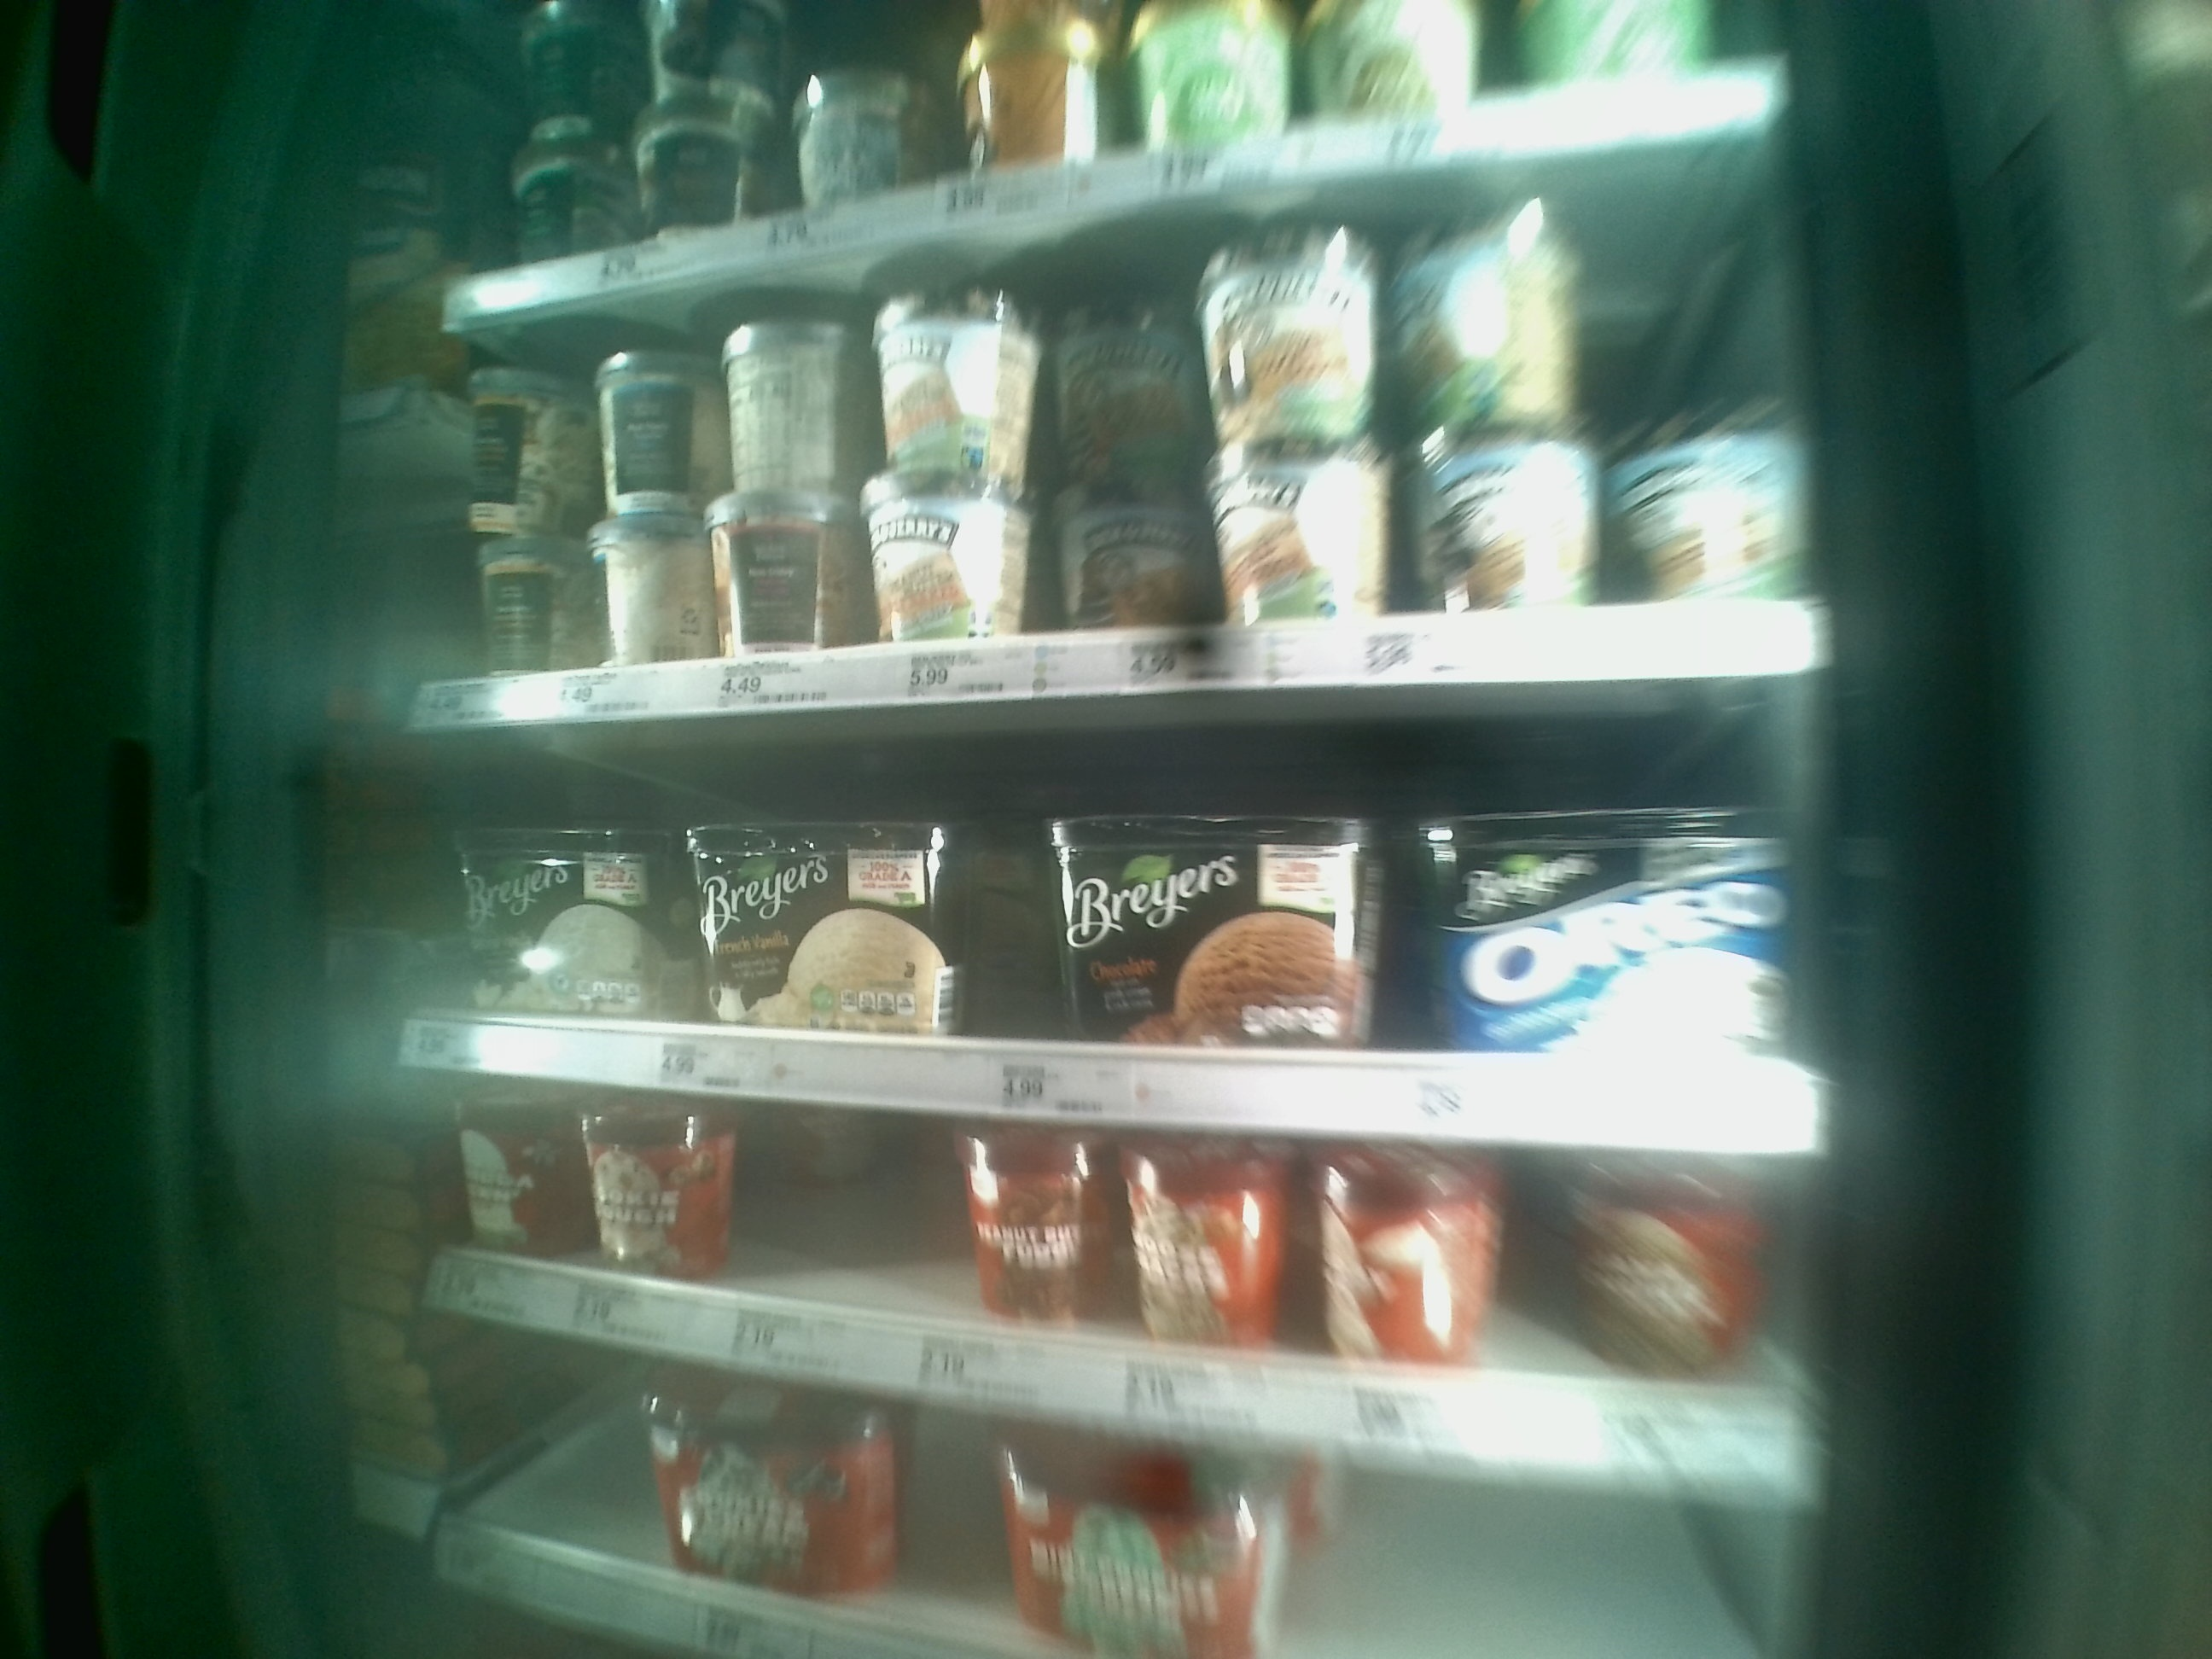shelf: (415, 118, 1817, 732), (395, 678, 1838, 1148)
